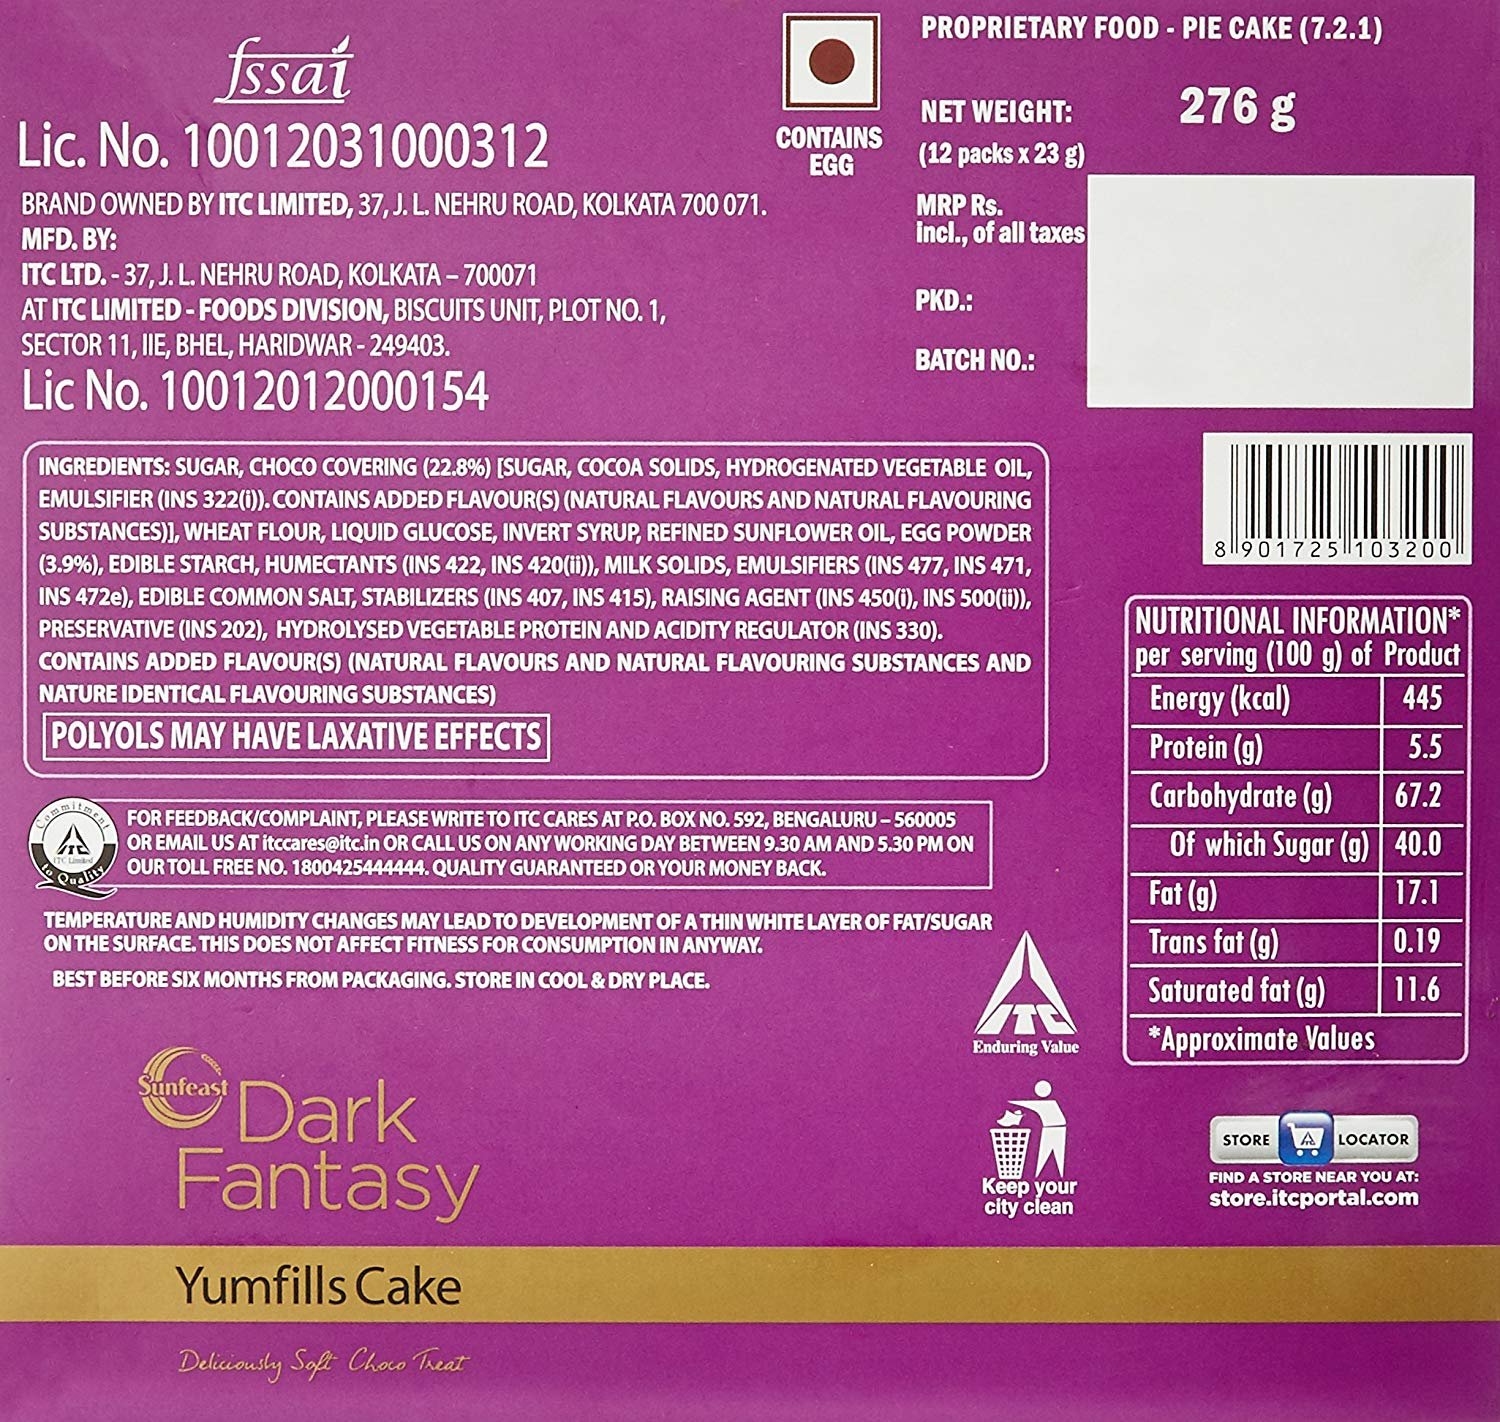nonveg_red: (779, 8, 884, 116)
